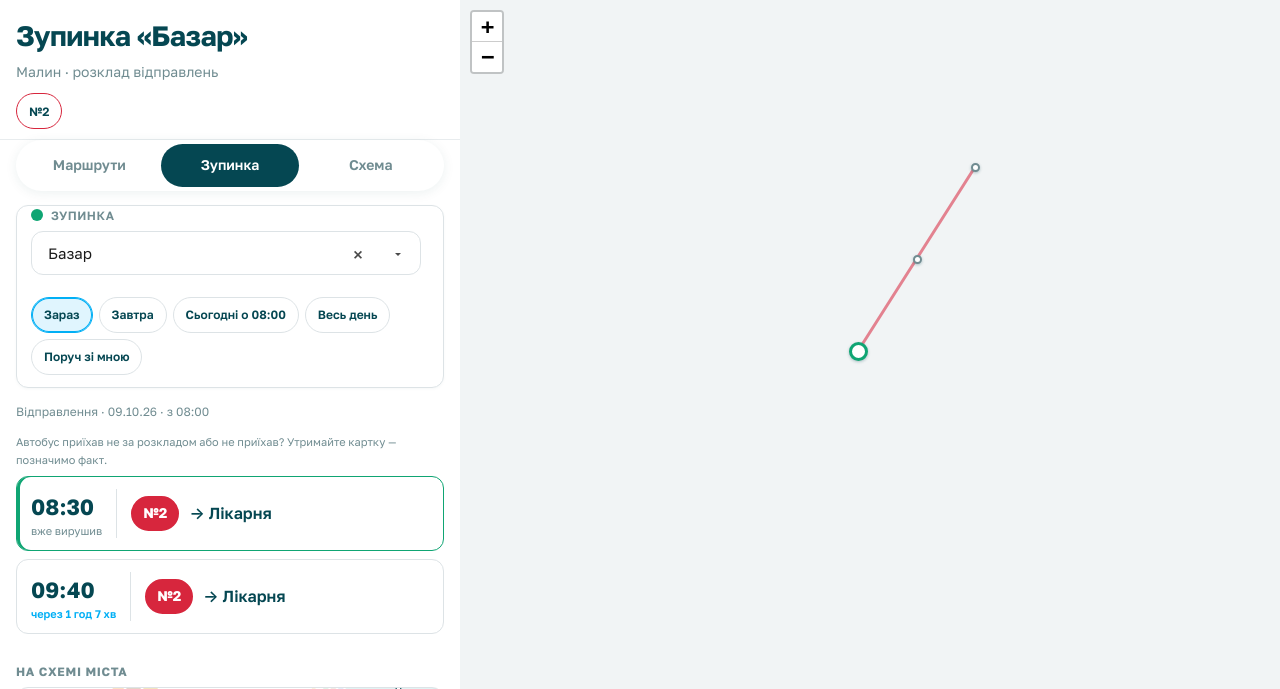
stop board: long press on a departure card › does not follow the link and records «автобуса не було» with the waiting time
The width and height of the screenshot is (1280, 689).
Check: the text "Утримайте картку" is shown, box [16,435,396,466]
Right-click the link with aria-label "Маршрут 2, відправлення 08:30" at {"x": 230, "y": 514}, box [16,476,444,551]
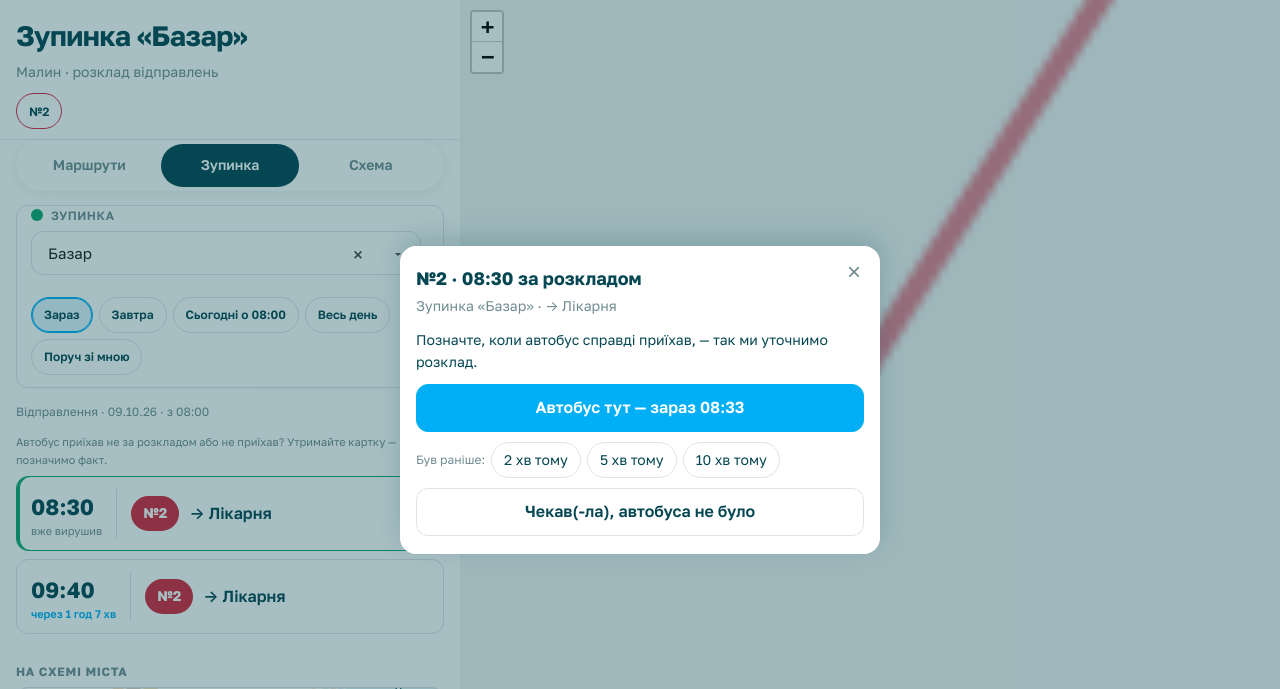
Check: the dialog shows "№2 · 08:30 за розкладом", box [400,246,880,554]
Check: the dialog shows "→ Лікарня", box [400,246,880,554]
Click the button "Чекав(-ла), автобуса не було" at {"x": 640, "y": 512}, box [416,488,864,536]
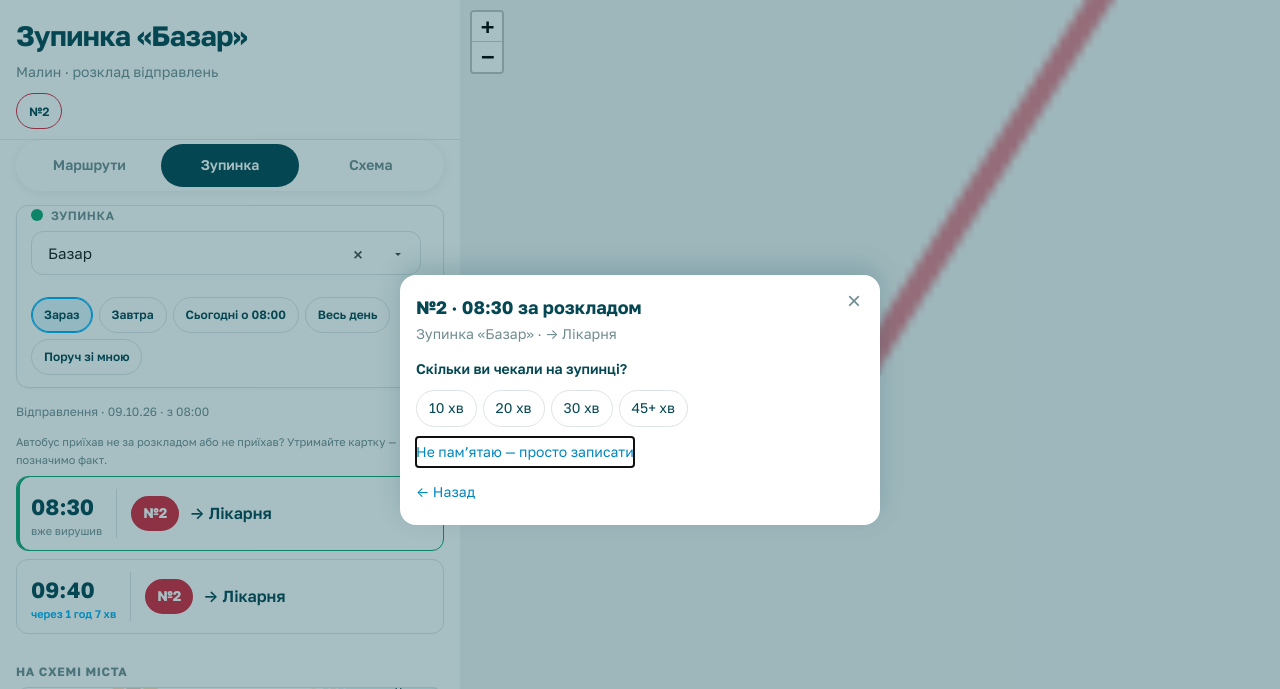
Click the button "20 хв" at {"x": 514, "y": 408}, box [483,390,544,427]
(page scrolled)
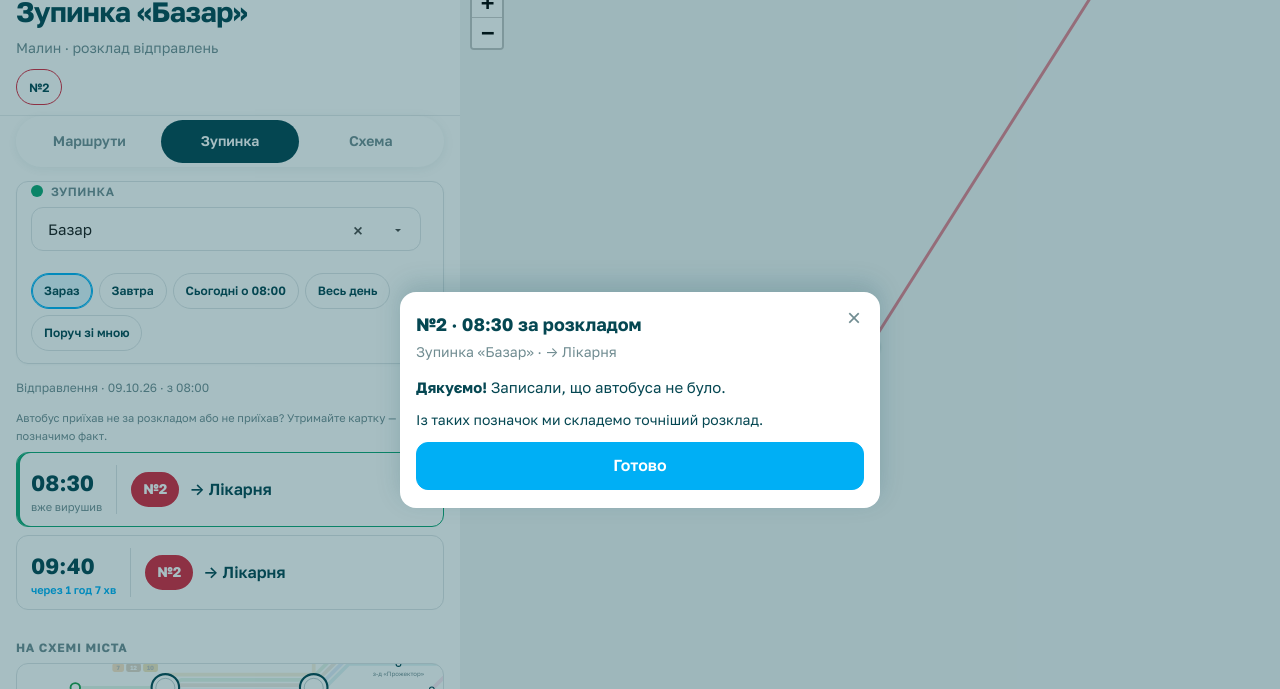
Check: the text "Дякуємо! Записали, що автобуса не було." is shown, box [416,378,726,396]
